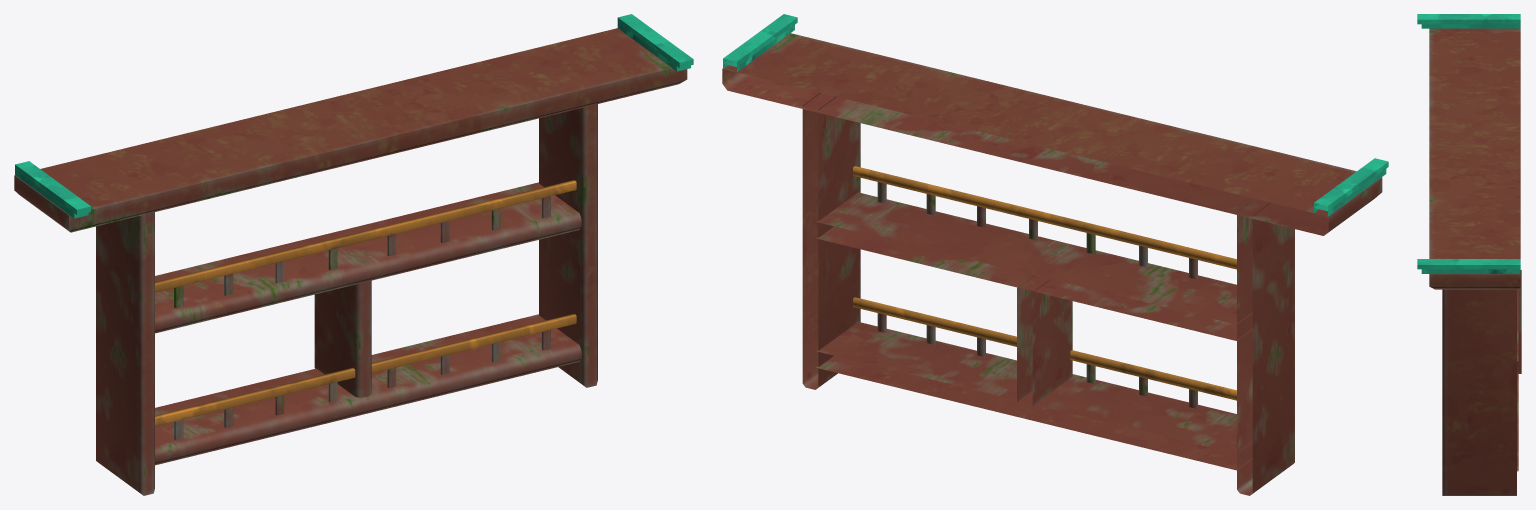
The model's file is shelf_002.fbx.
3 views of the same model, side by side, from view 1: azimuth 30°, elevation 25°; view 2: azimuth 150°, elevation 25°; view 3: azimuth 270°, elevation 25° (orthographic). The views are drawn at different scales.
Visible parts, largest first — view 1: shelf_002; view 2: shelf_002; view 3: shelf_002.
Part boxes in pixels (x1,y1,x2,y2): shelf_002: (14, 14, 693, 495); shelf_002: (722, 14, 1388, 495); shelf_002: (1417, 14, 1521, 495).
Size of the model in its own units: 265 by 130 by 46.57.
1 material, 1 textured.
